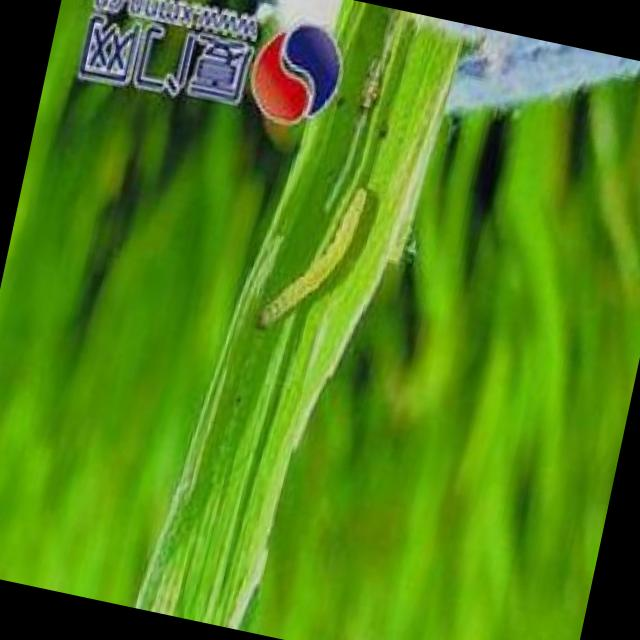leaf-folder: (238, 154, 386, 352)
